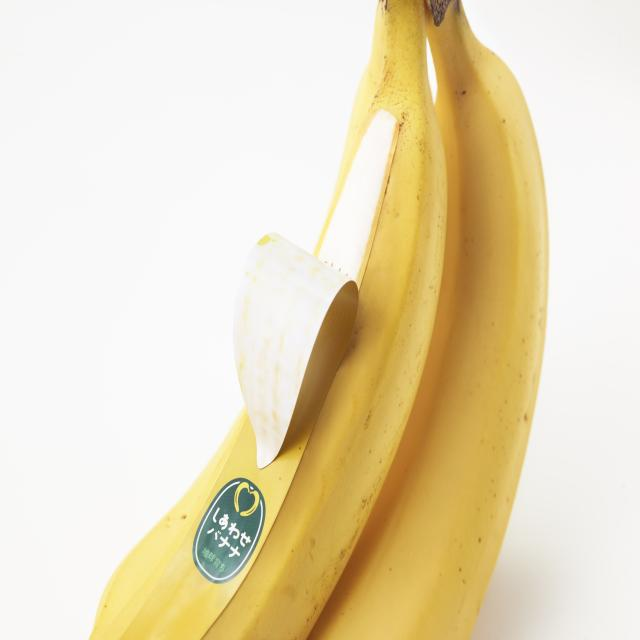banana: (78, 0, 572, 640)
